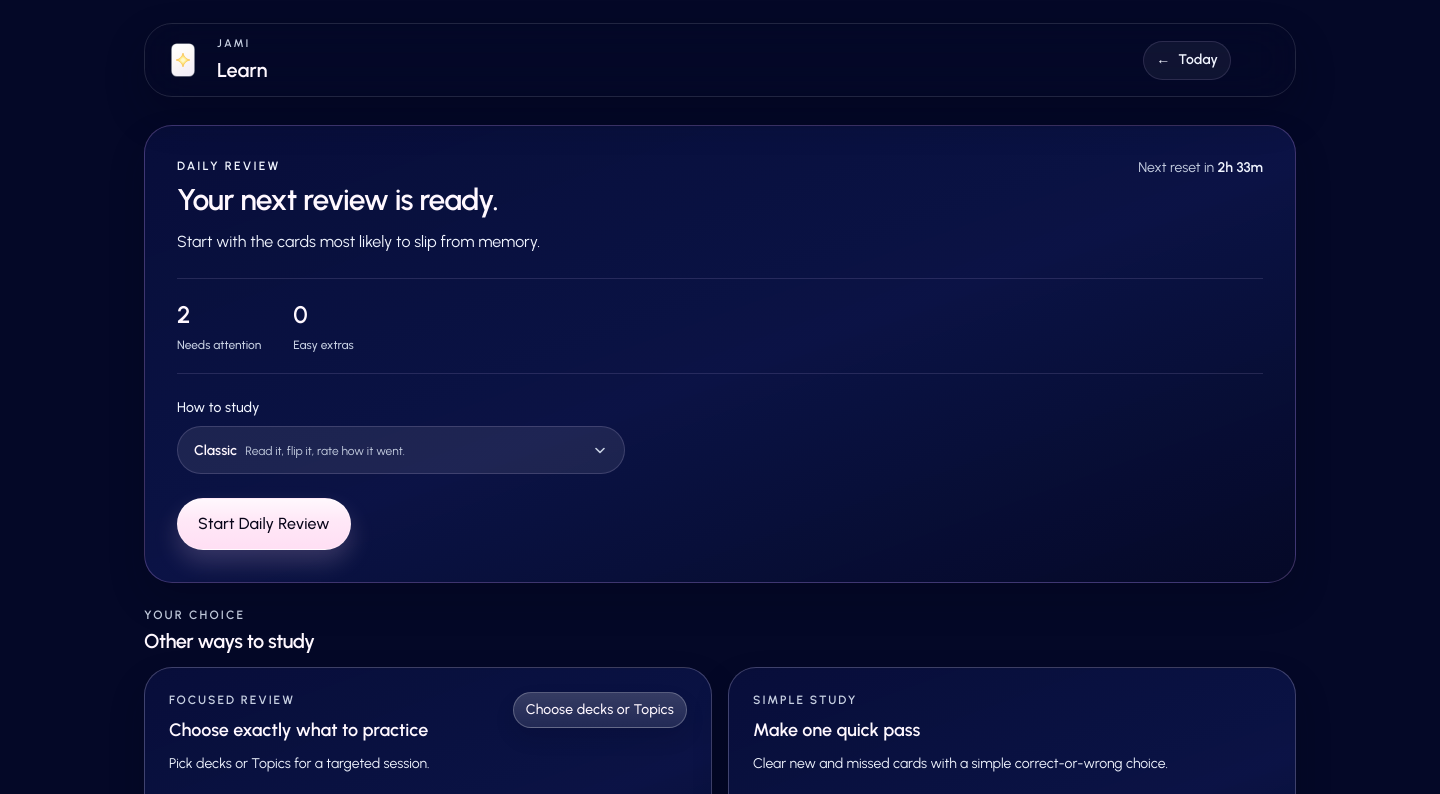
the answer-first modes › asks a card as a flashcard, saying why, when its question cannot be written
Click the button that starts with "Classic". click: x=401, y=450
box: [177, 426, 625, 474]
(page scrolled)
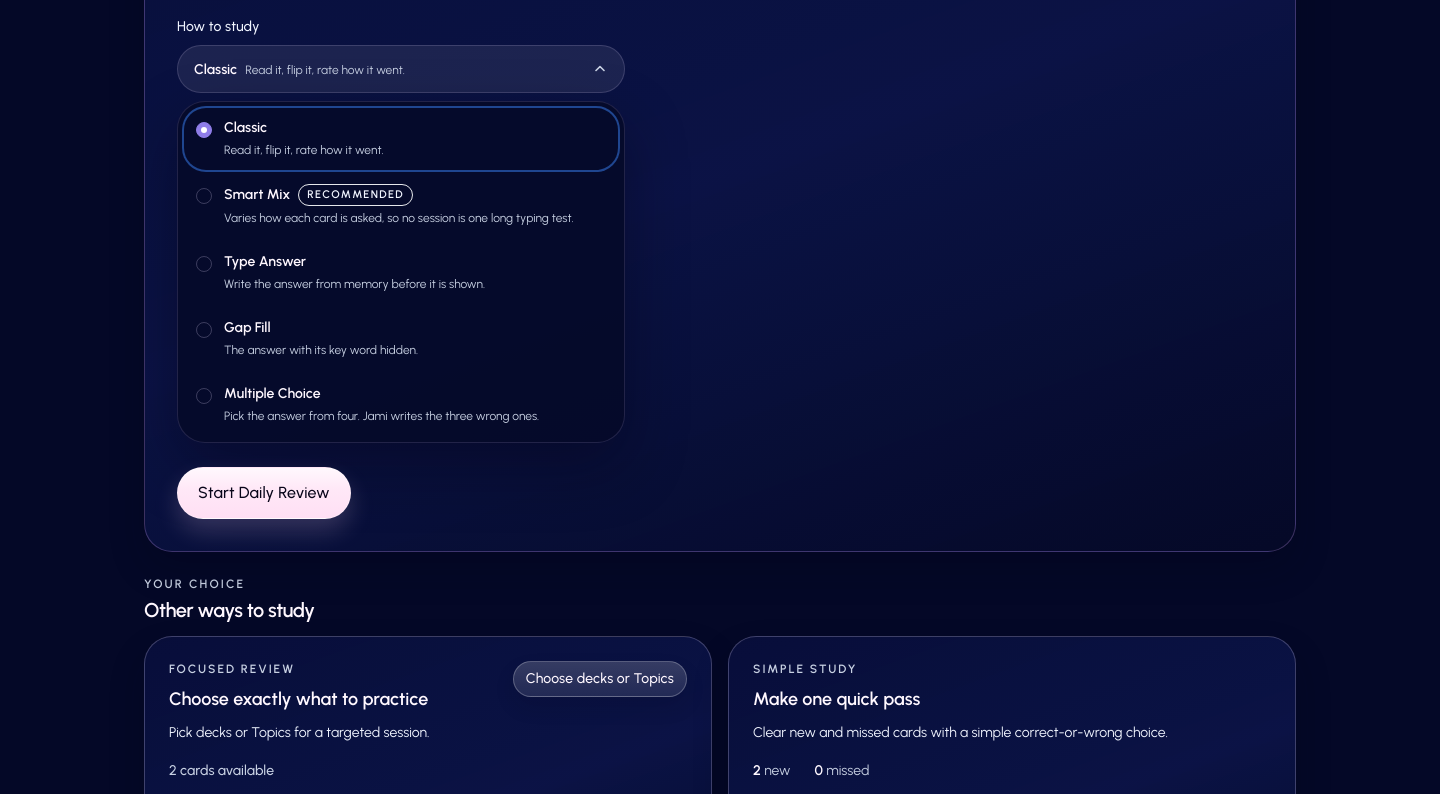
Result: the option that starts with "Multiple Choice" is shown
Click the option that starts with "Multiple Choice". click: x=272, y=394
box: [184, 374, 618, 436]
(page scrolled)
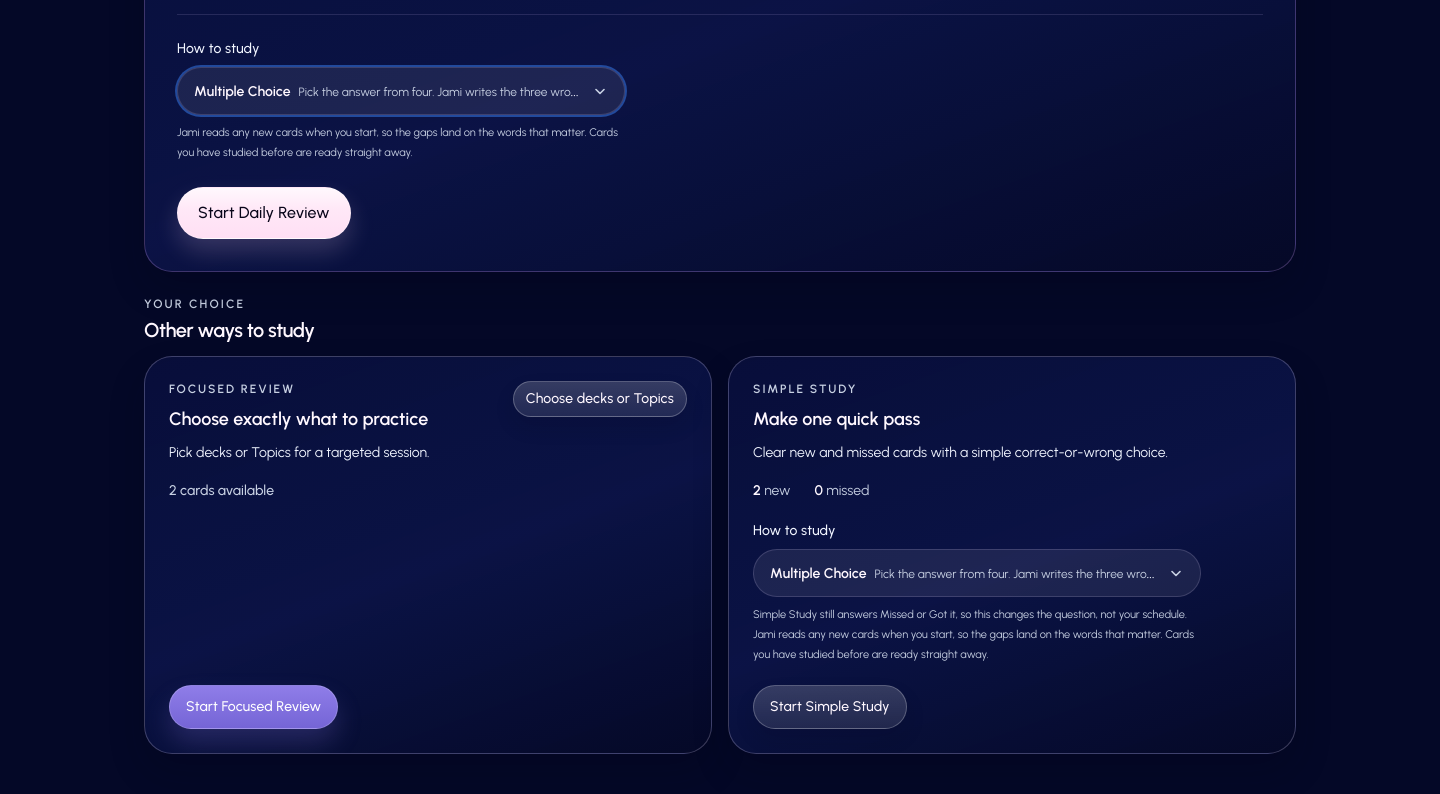
Result: the button below "Needs attention" is collapsed at [177, 67, 625, 115]
Click the button "Start Daily Review". click: x=264, y=213
box: [177, 187, 351, 239]
(page scrolled)
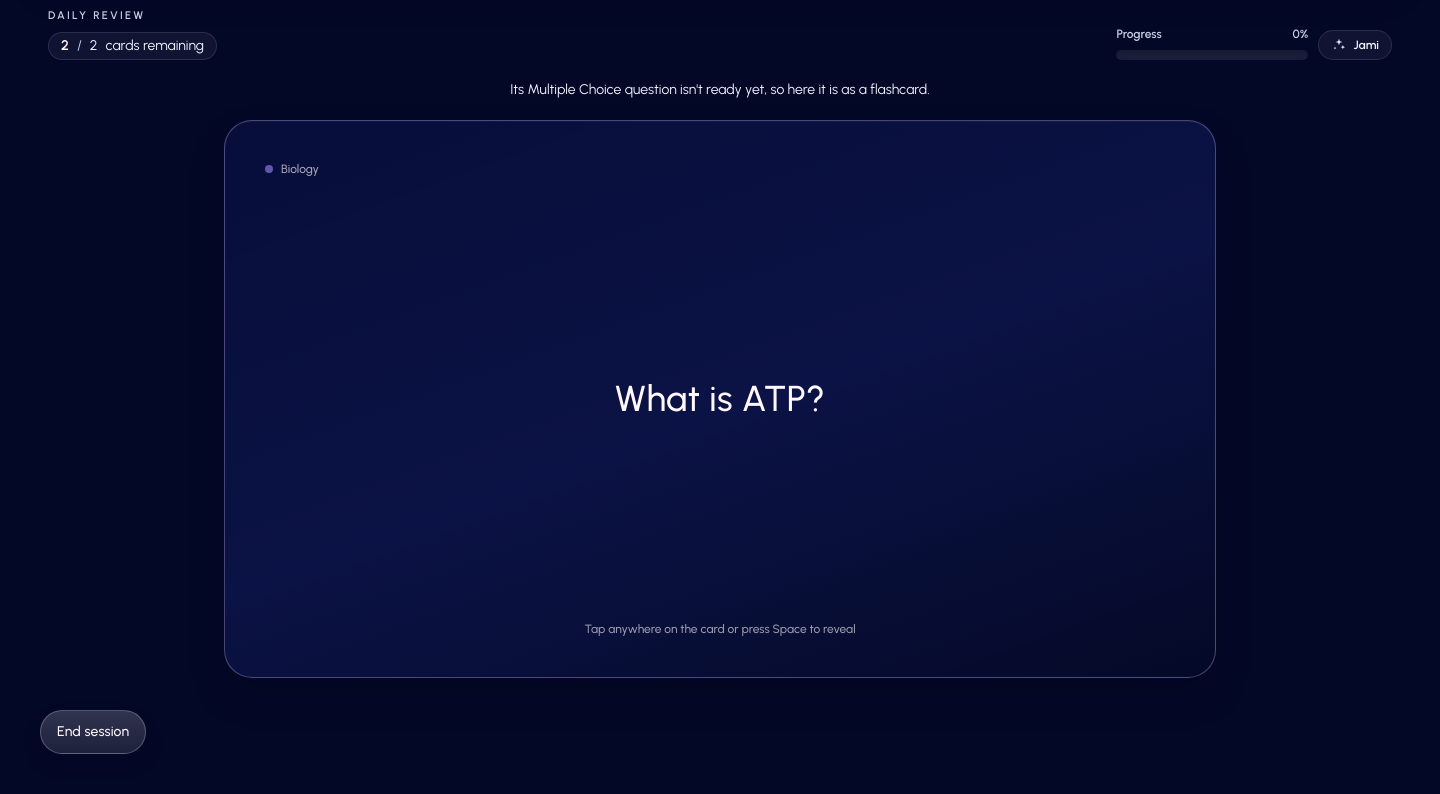
Result: the text "Its Multiple Choice question isn't ready yet, so here it is as a flashcard." is shown at [510, 81, 930, 98]
